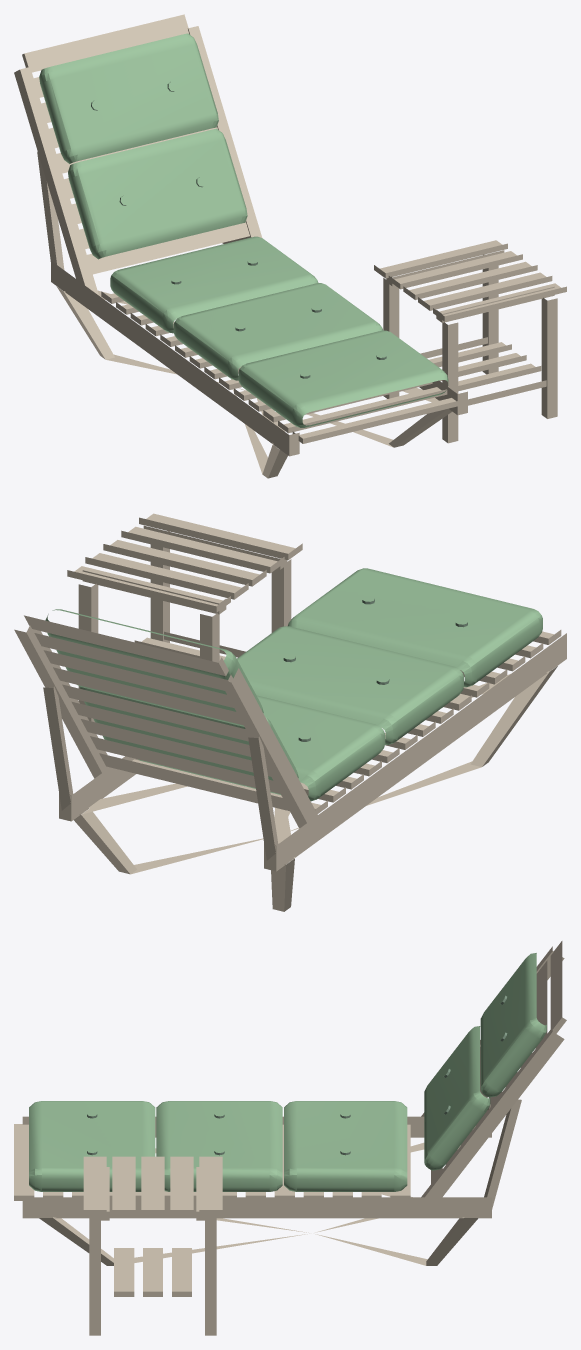
Rendered from lounger_L2.glb.
The picture shows the model from 3 angles, top to bottom: view 1: azimuth 30°, elevation 25°; view 2: azimuth 150°, elevation 25°; view 3: azimuth 270°, elevation 25°; orthographic projection. The views are drawn at different scales.
Parts seen in each view (by area): view 1: Cushions, Lounger_Slat_Frame, Table_Slat_Frame; view 2: Lounger_Slat_Frame, Cushions, Table_Slat_Frame; view 3: Cushions, Lounger_Slat_Frame, Table_Slat_Frame.
Boxes of the visible parts, x1,y1,x2,y2 form: Cushions: (39,33,448,427); Lounger_Slat_Frame: (14,14,467,478); Table_Slat_Frame: (374,240,566,443); Lounger_Slat_Frame: (14,615,566,911); Cushions: (45,568,542,801); Table_Slat_Frame: (67,513,302,722); Cushions: (29,953,546,1191); Lounger_Slat_Frame: (14,941,566,1265); Table_Slat_Frame: (83,1156,222,1335).
Bounding box in the file's own units: 1.22 × 0.9698 × 1.91.
